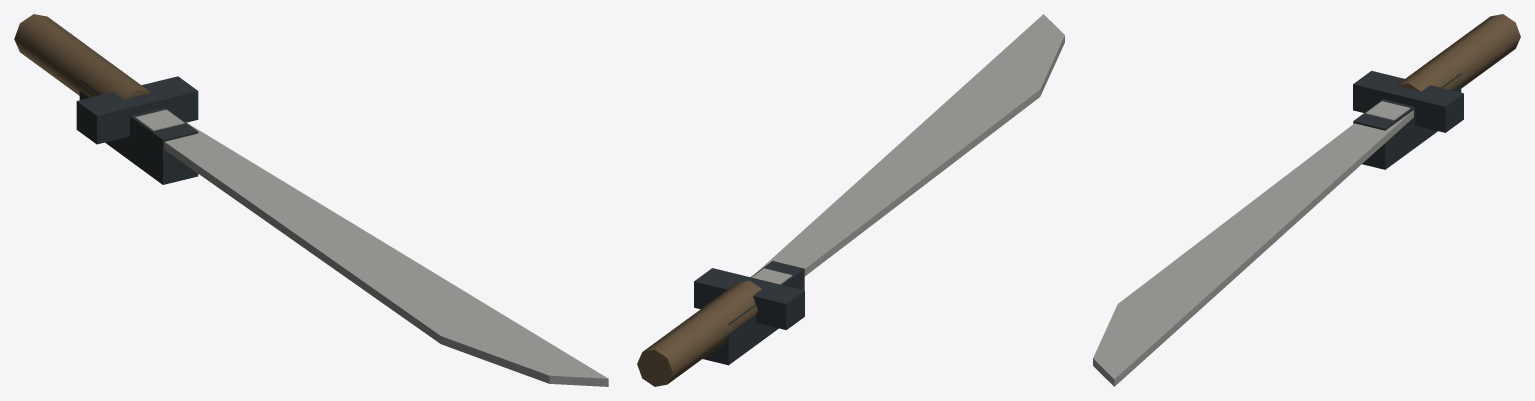
3 renders of one model, left to right at view 1: azimuth 30°, elevation 25°; view 2: azimuth 150°, elevation 25°; view 3: azimuth 330°, elevation 25°, orthographic. The views are drawn at different scales.
Visible parts, largest first — view 1: weapon-katana-painted; view 2: weapon-katana-painted; view 3: weapon-katana-painted.
Boxes of the visible parts, left/top/right/bottom form: weapon-katana-painted: left=14, top=14, right=608, bottom=386; weapon-katana-painted: left=637, top=14, right=1064, bottom=386; weapon-katana-painted: left=1093, top=14, right=1520, bottom=386.
Bounding box in the file's own units: 0.8345 × 0.3834 × 5.79.
